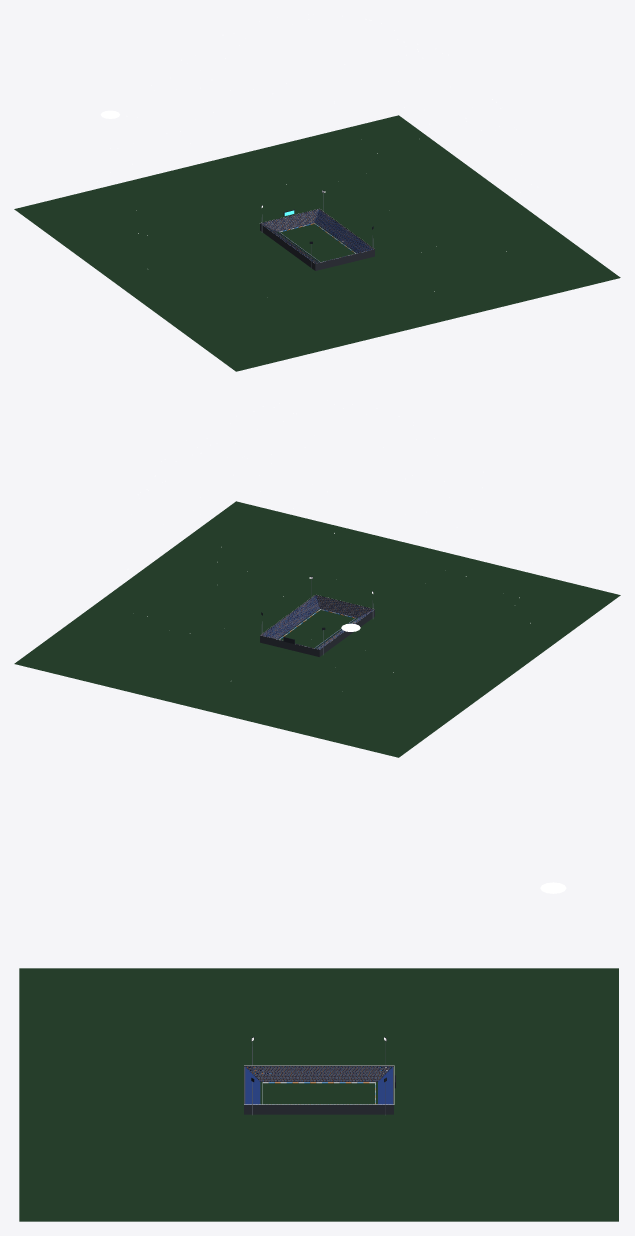
File: night.glb
3 views of the same model, one above another, from view 1: azimuth 30°, elevation 25°; view 2: azimuth 150°, elevation 25°; view 3: azimuth 270°, elevation 25° (orthographic). The views are drawn at different scales.
Visible parts, largest first — view 1: night; view 2: night; view 3: night.
Boxes of the visible parts, x1,y1,x2,y2 form: night: (14,14,620,371); night: (14,403,620,757); night: (19,882,618,1221).
Size of the model in its own units: 640 by 309 by 648.
Materials: 16 (1 with a texture image).
